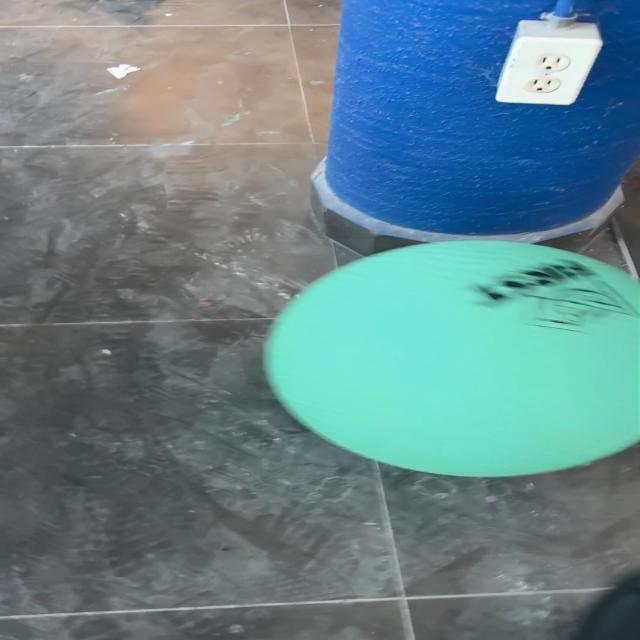Algae: (262, 239, 638, 478)
